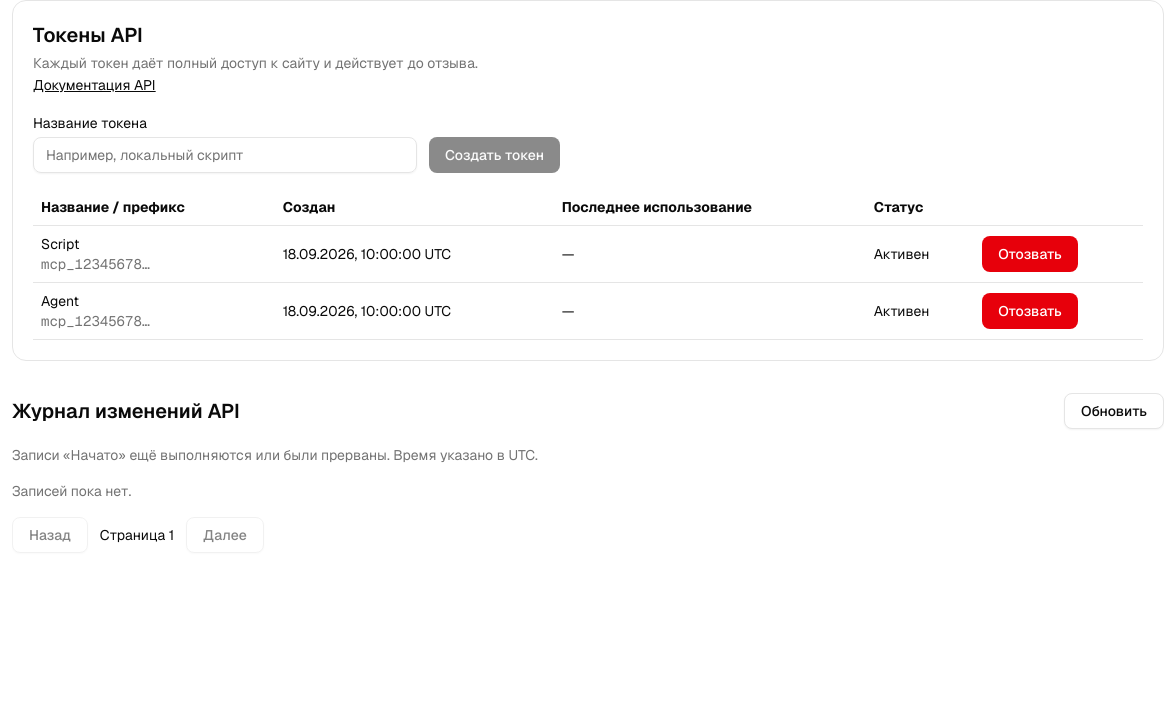
Scenario: API tab › revokes a selected token without affecting others
Click the button with aria-label "Отозвать токен Script" at (1030, 254), box [982,236,1078,272]
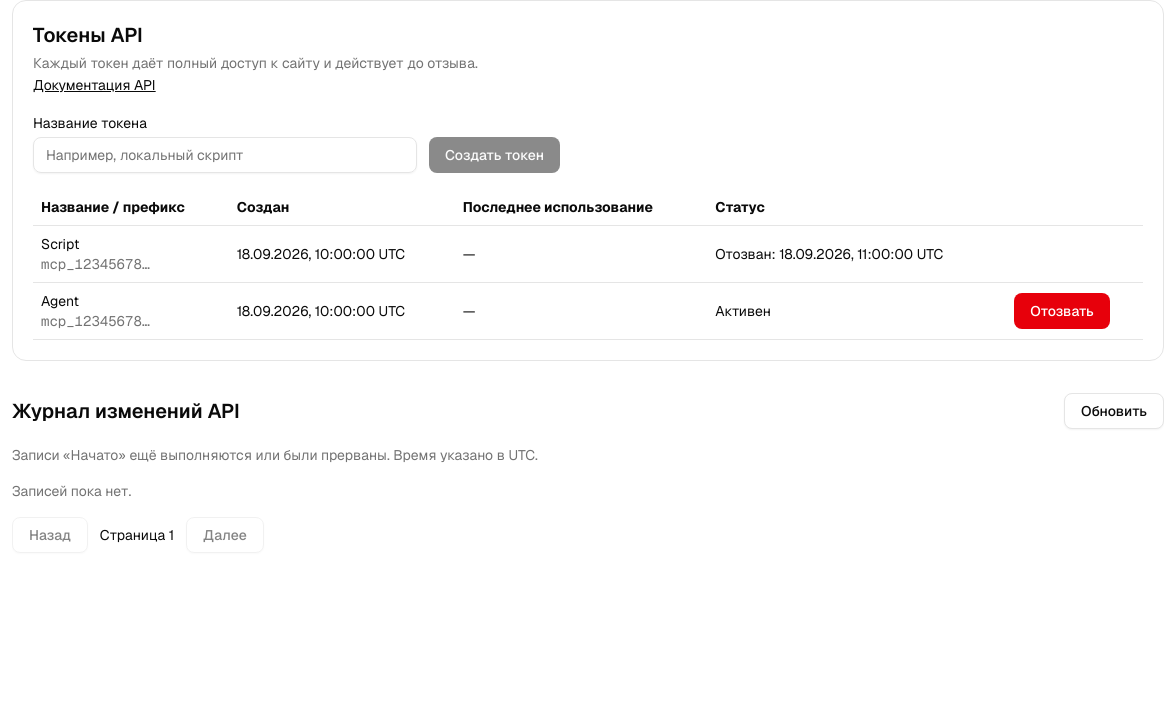
Expected: the button with aria-label "Отозвать токен Agent" is shown, [1014,293,1110,329]
Result: the text "Отозван: 18.09.2026, 11:00:00 UTC" is shown at [707,226,1006,282]
